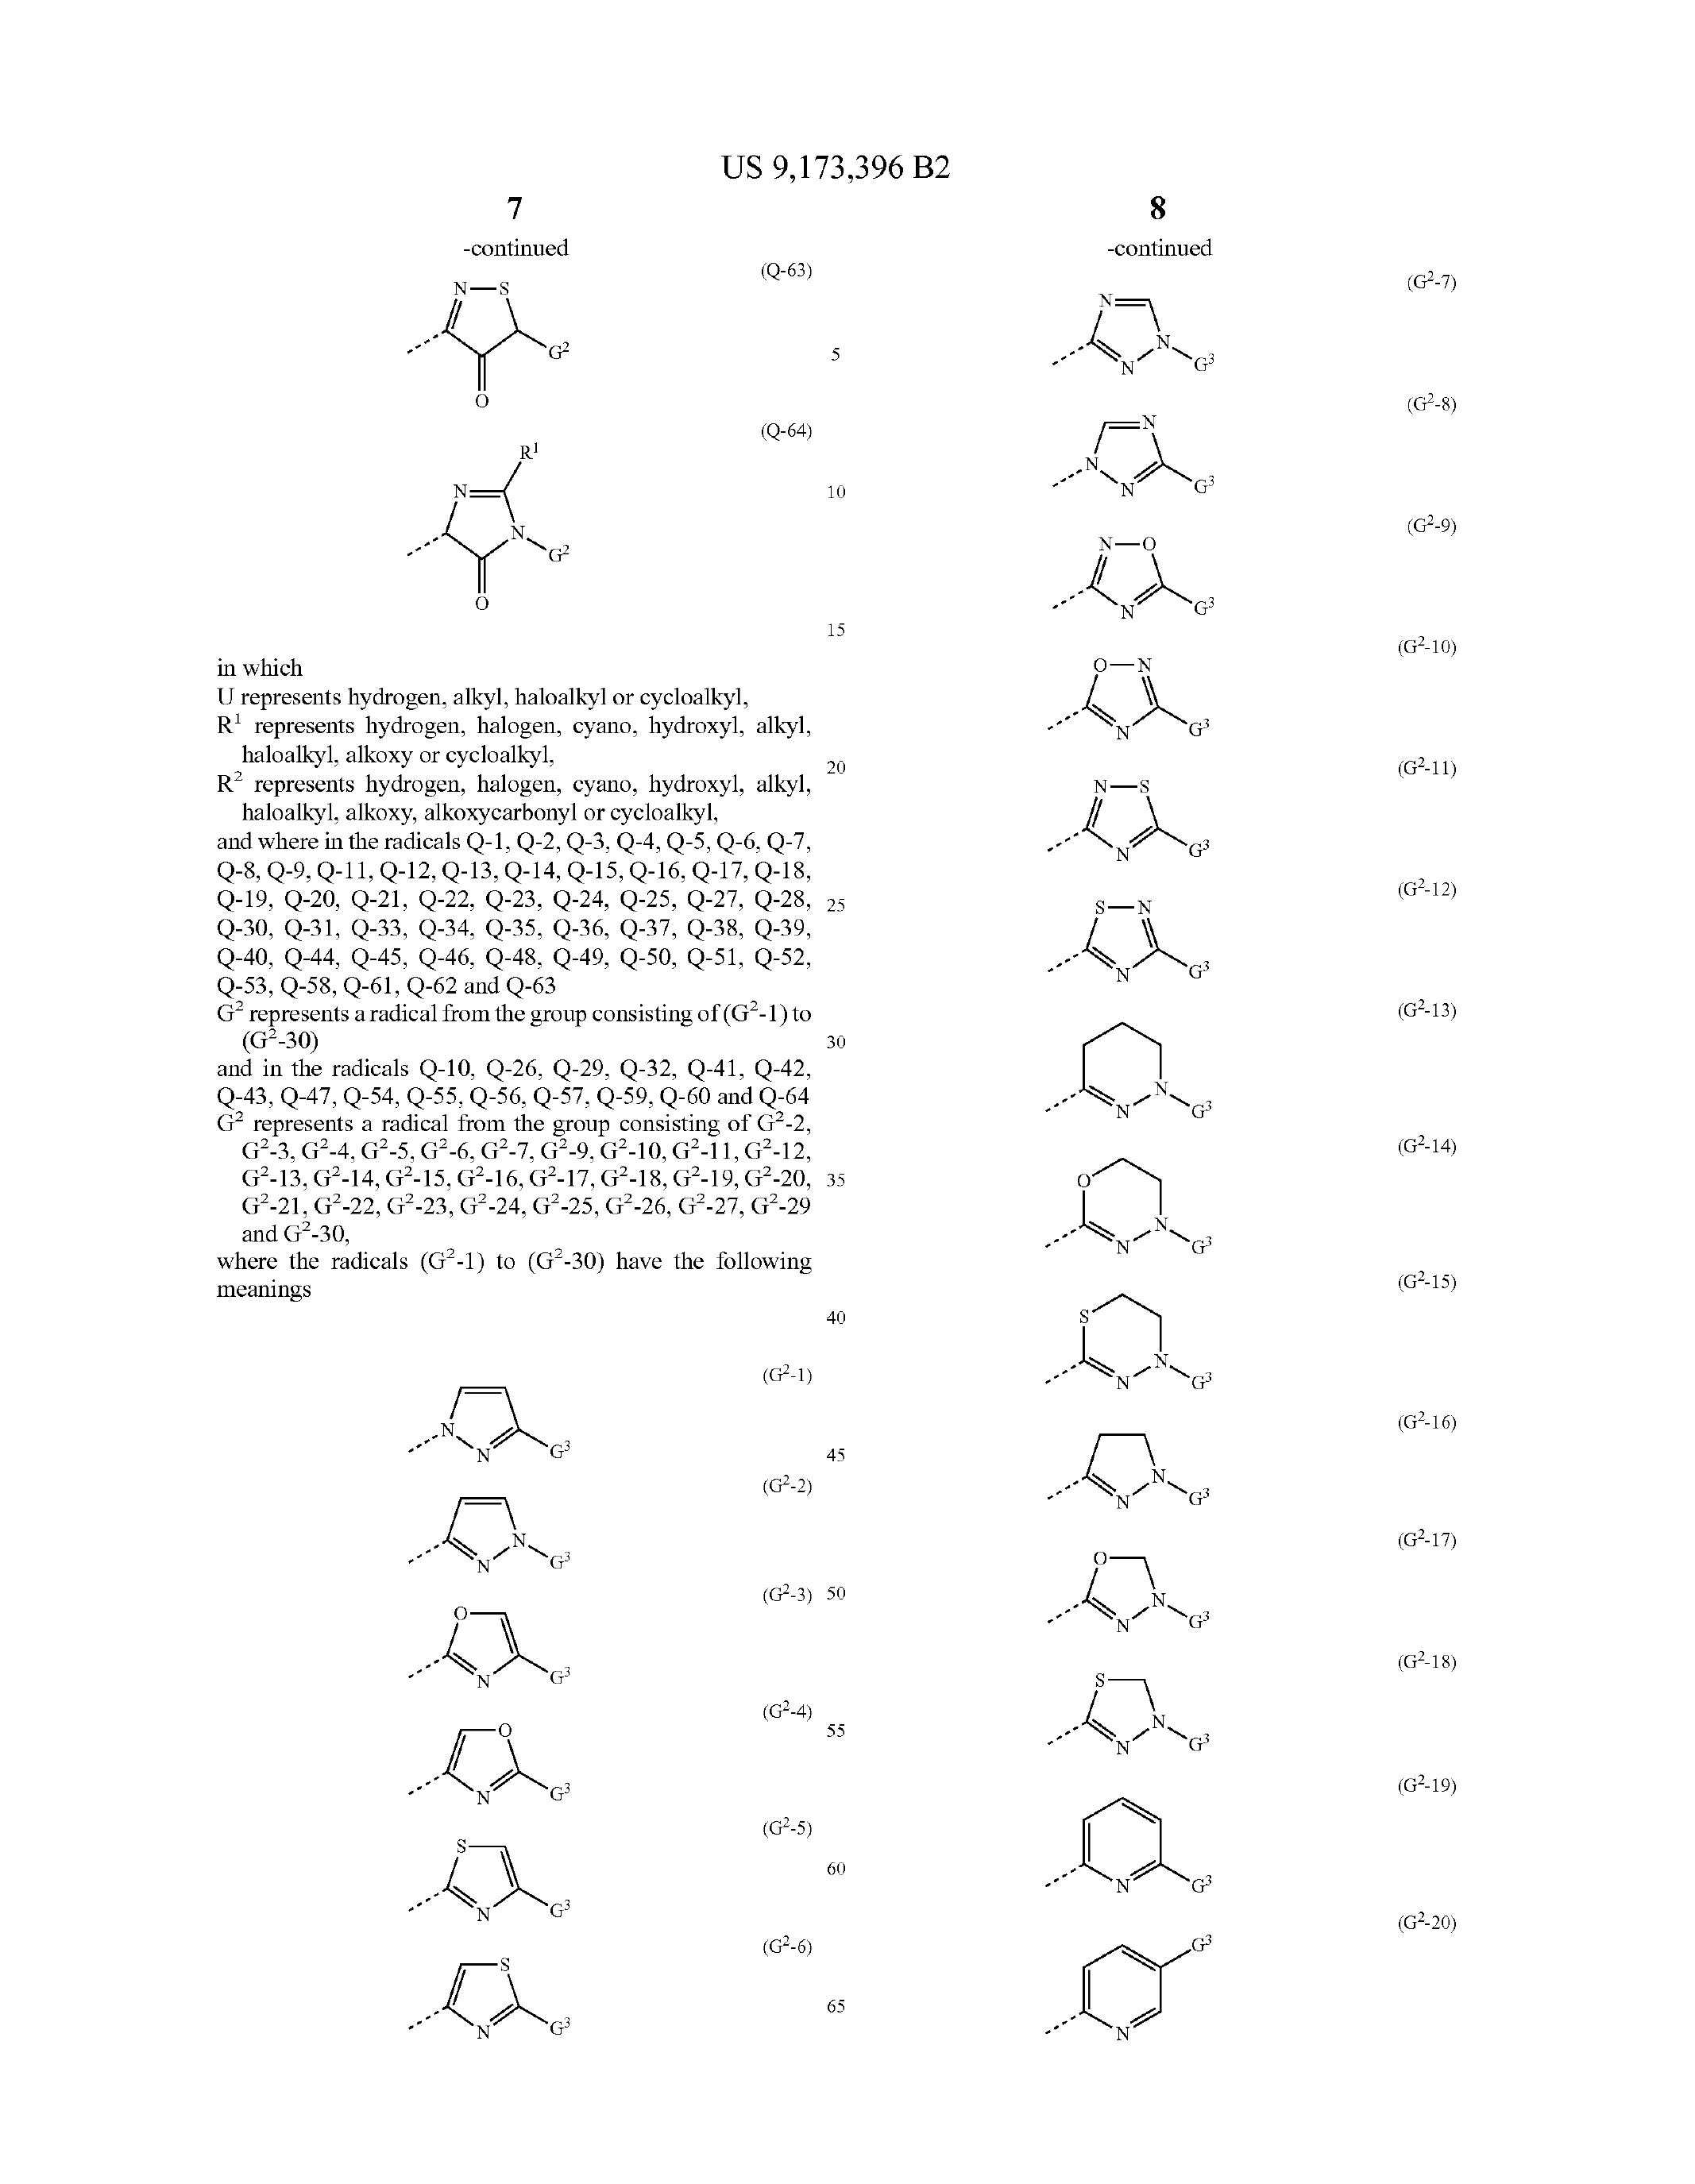substitutes: (174, 682, 915, 1104)
